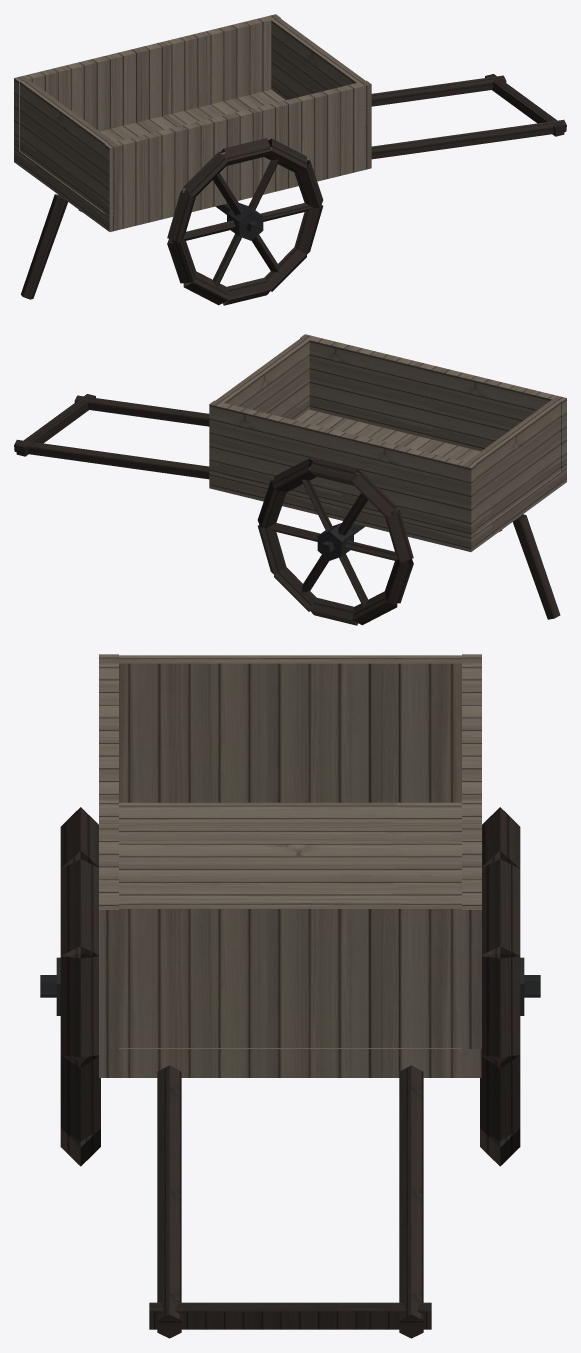
The model's file is handcart_01.glb.
The picture shows the model from 3 angles, top to bottom: view 1: azimuth 30°, elevation 25°; view 2: azimuth 150°, elevation 25°; view 3: azimuth 270°, elevation 25°; orthographic projection. The views are drawn at different scales.
Parts seen in each view (by area): view 1: handcart_01; view 2: handcart_01; view 3: handcart_01.
Boxes of the visible parts, x1,y1,x2,y2 form: handcart_01: [14, 14, 566, 305]; handcart_01: [14, 334, 566, 625]; handcart_01: [40, 654, 540, 1338].
Size of the model in its own units: 2.93 by 0.9904 by 1.24.
3 materials, 3 textured.
